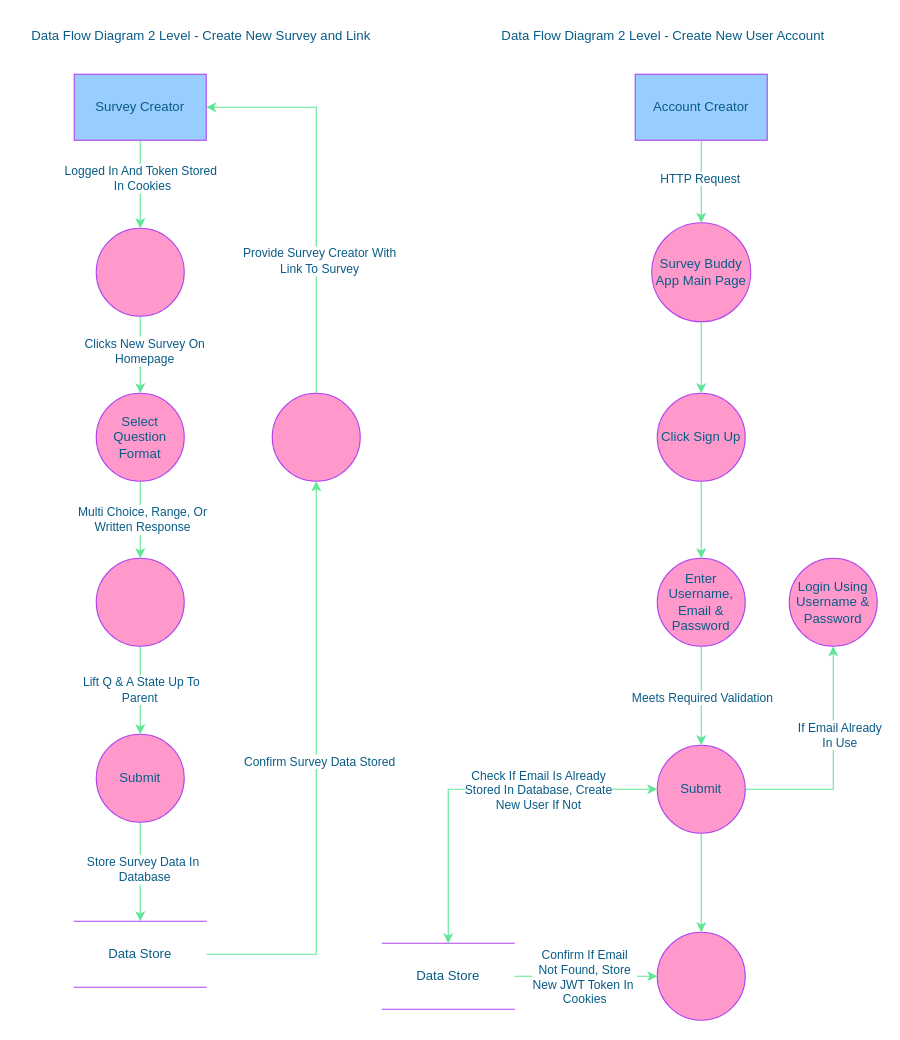
This 900x1040 diagram has some shape labels left out. Each missing label, with the centre of its shape:
Input Question & Answer Data: point 139,601
New Survey: point 139,271
New User Homepage: point 700,975
Survey Link: point 315,436
